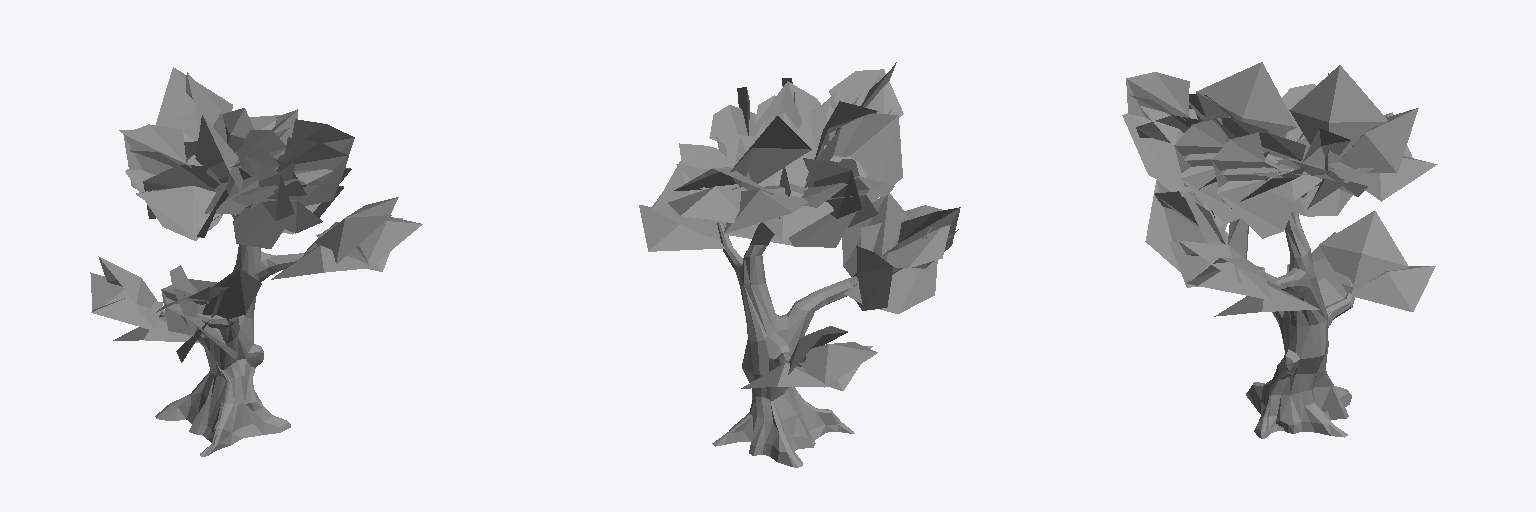
The model's file is Fantasy_Tree1.obj.
3 views of the same model, side by side, from view 1: azimuth 30°, elevation 25°; view 2: azimuth 150°, elevation 25°; view 3: azimuth 270°, elevation 25° (orthographic).
Parts seen in each view (by area): view 1: Fantasy_Tree1.obj; view 2: Fantasy_Tree1.obj; view 3: Fantasy_Tree1.obj.
Boxes of the visible parts, x1=… form: Fantasy_Tree1.obj: x1=90, y1=67, x2=422, y2=456; Fantasy_Tree1.obj: x1=639, y1=62, x2=960, y2=467; Fantasy_Tree1.obj: x1=1122, y1=62, x2=1437, y2=438.
Size of the model in its own units: 3.52 by 4.2 by 3.49.